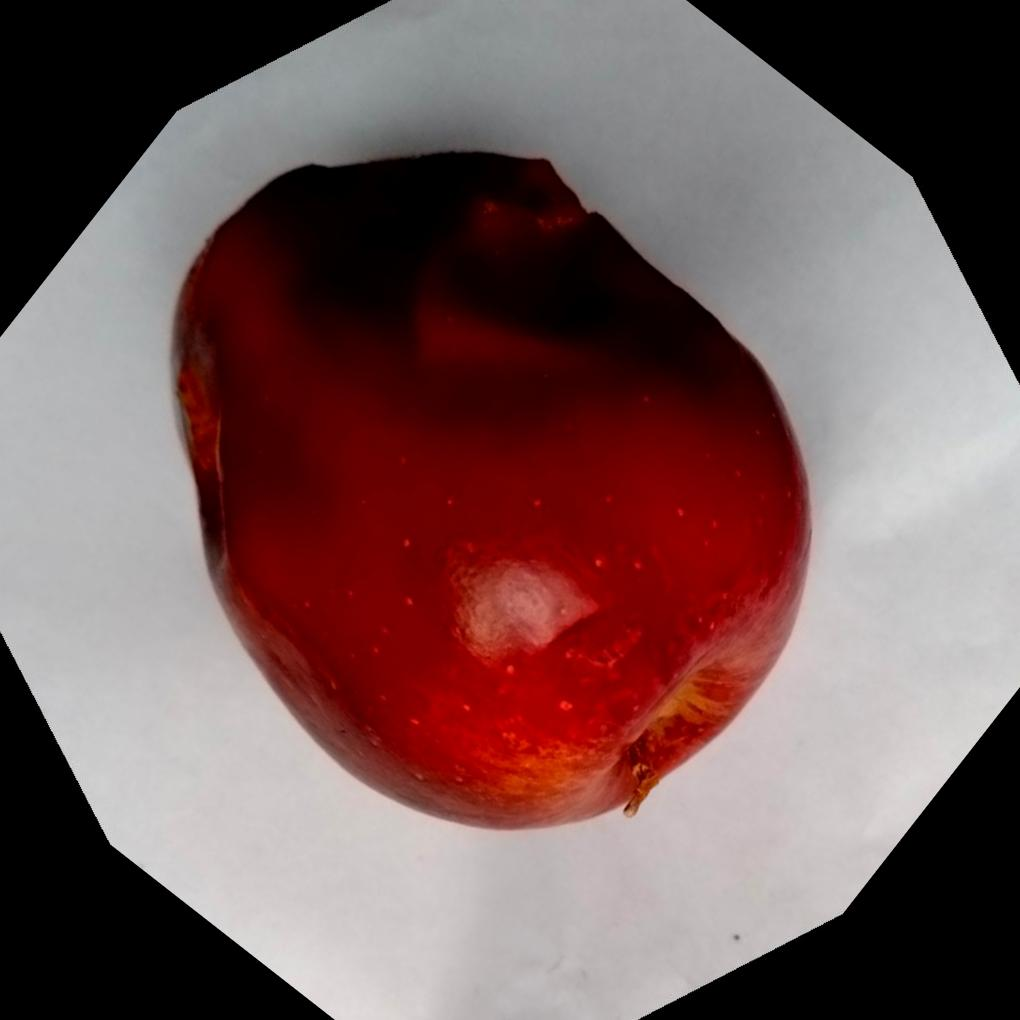FreshOrange: (167, 145, 811, 831)
